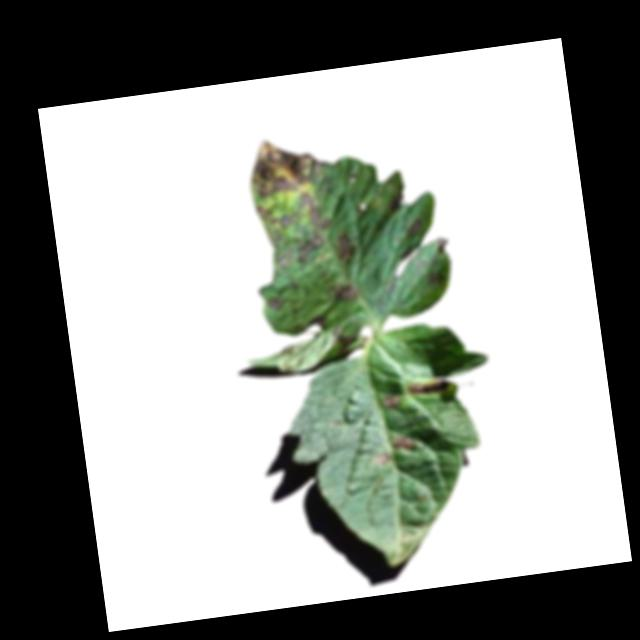Early_blight: (245, 133, 328, 199), (297, 189, 336, 234), (255, 199, 297, 232), (295, 233, 328, 267), (336, 232, 362, 270), (329, 324, 358, 355), (407, 377, 450, 397), (389, 428, 421, 454), (330, 278, 358, 305), (404, 215, 429, 241), (425, 264, 450, 286), (384, 390, 405, 413), (266, 295, 290, 313), (371, 450, 394, 467)
